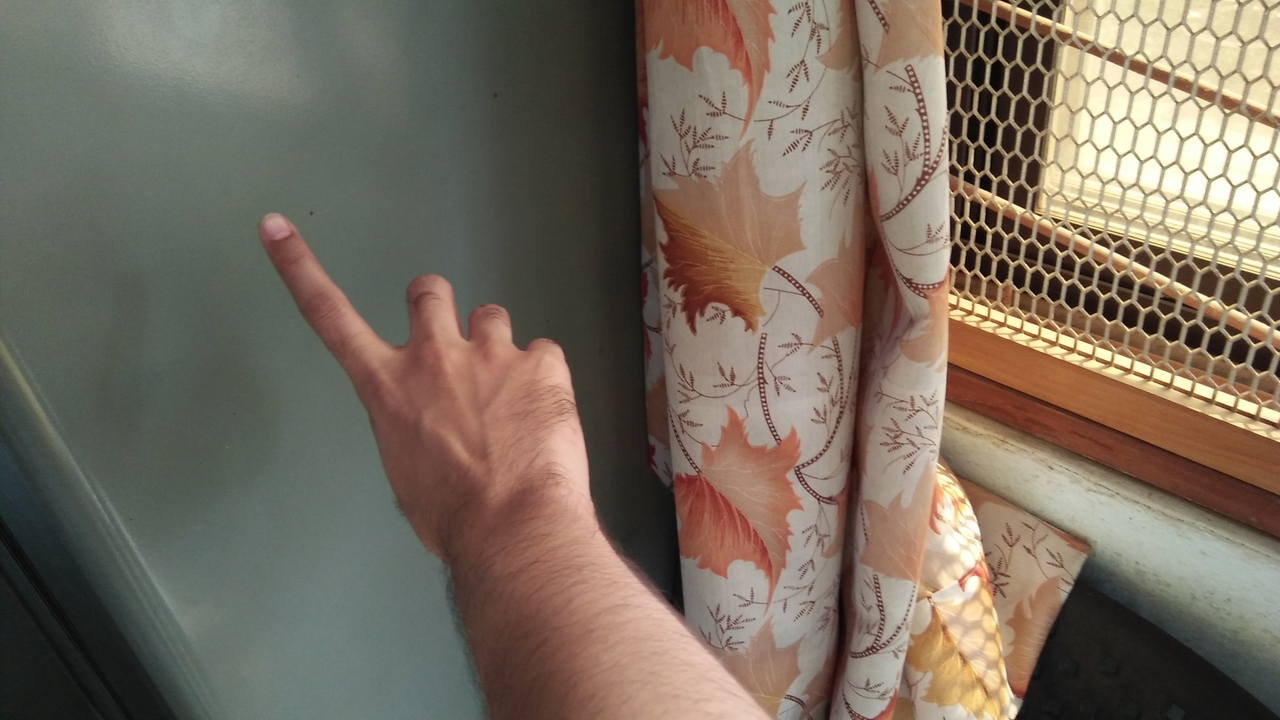fingertip: (244, 198, 298, 254)
